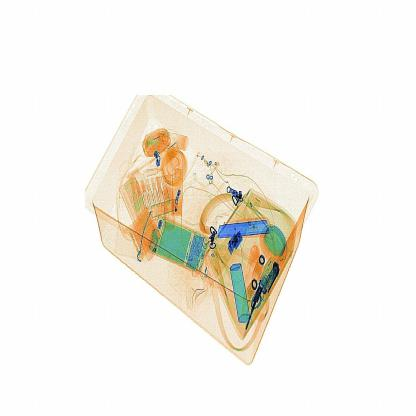pliers: (216, 214, 283, 246)
